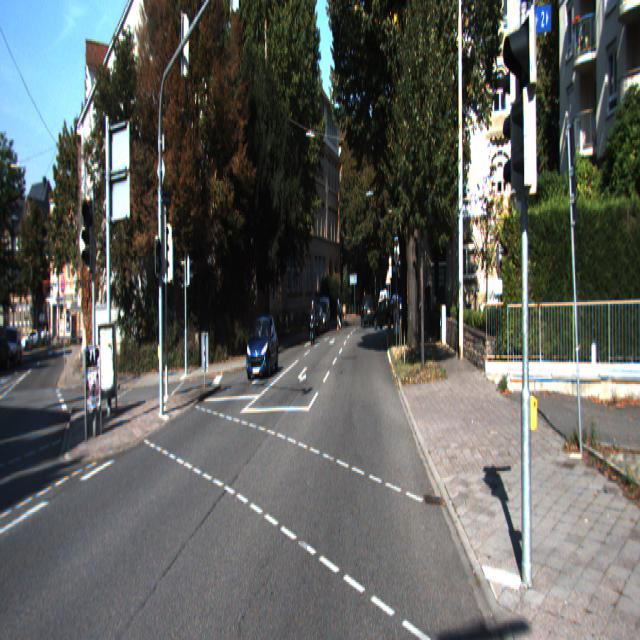Car: (246, 313, 280, 383), (307, 304, 323, 338), (308, 298, 316, 344)
